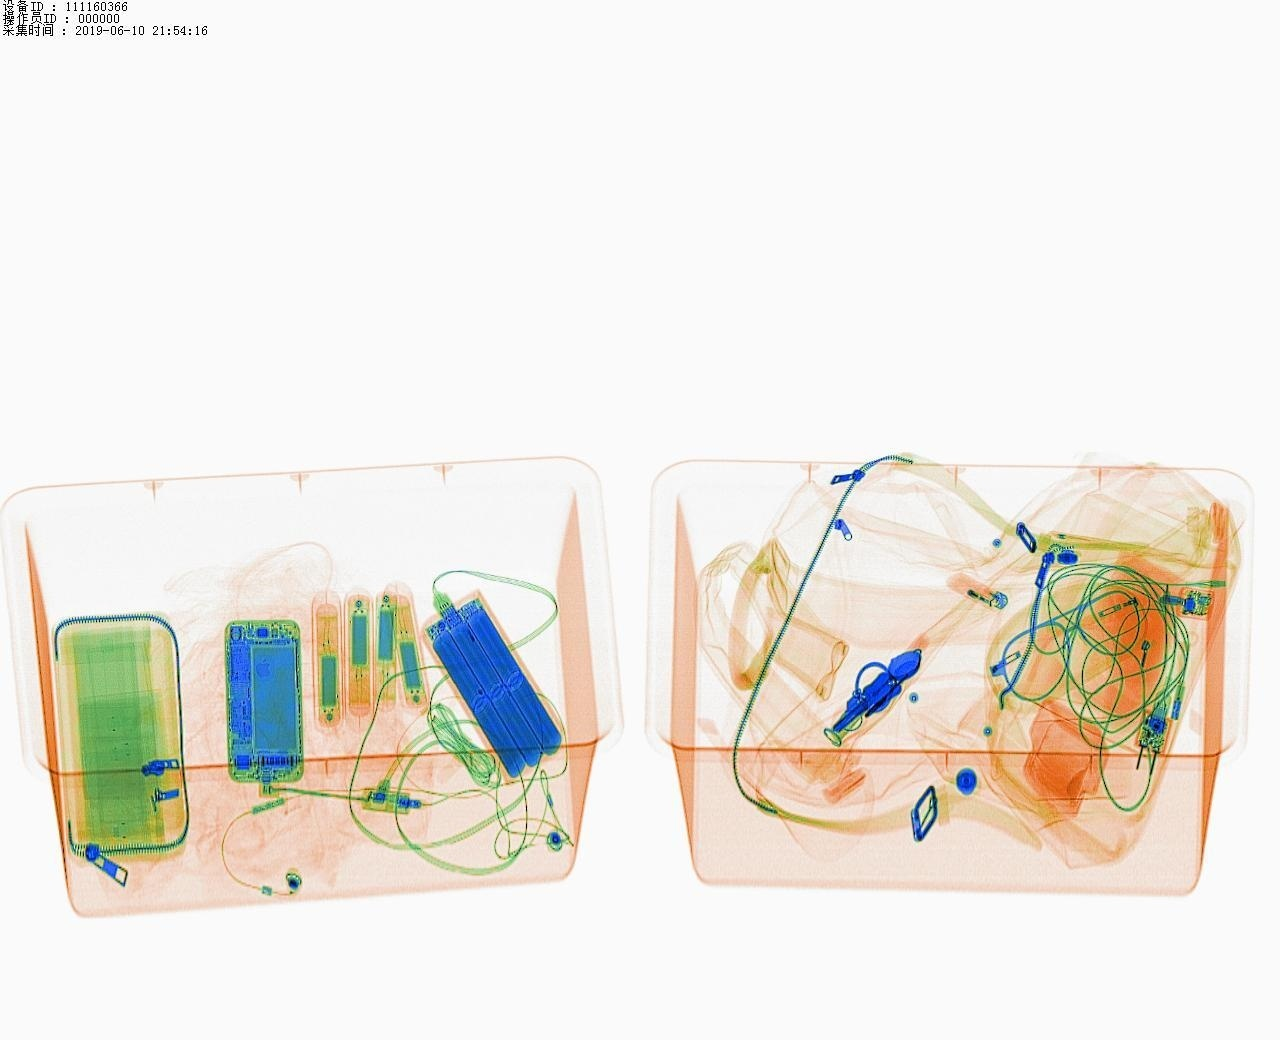NonmetallicFire: (929, 554, 1016, 626)
